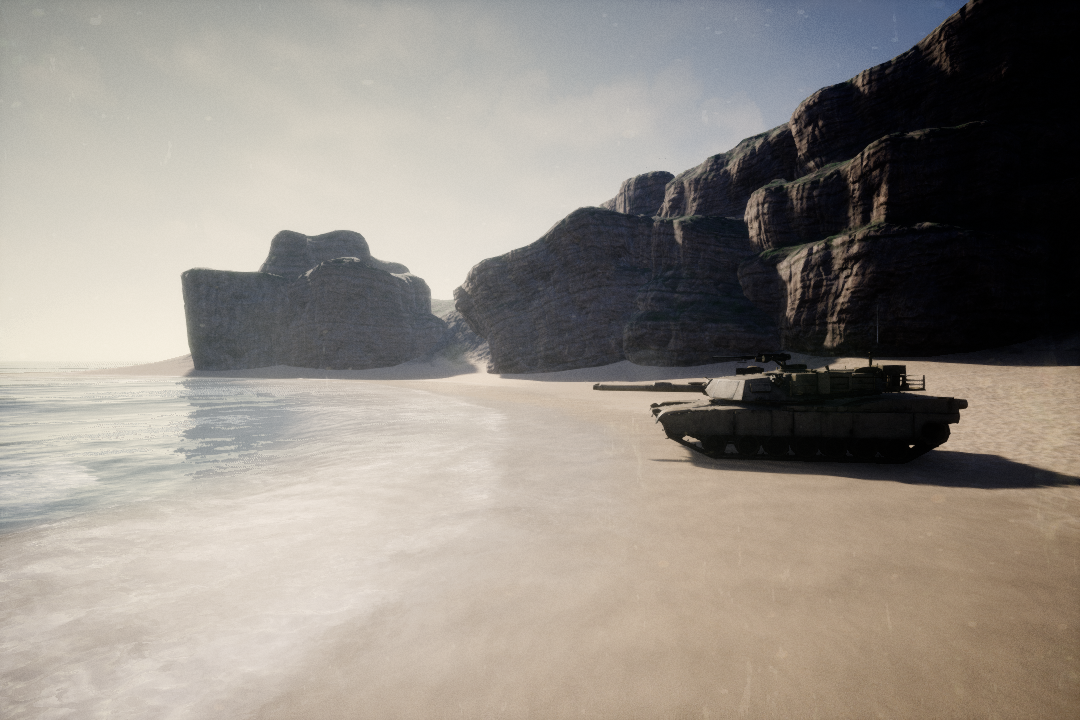tank: (590, 360, 970, 465)
